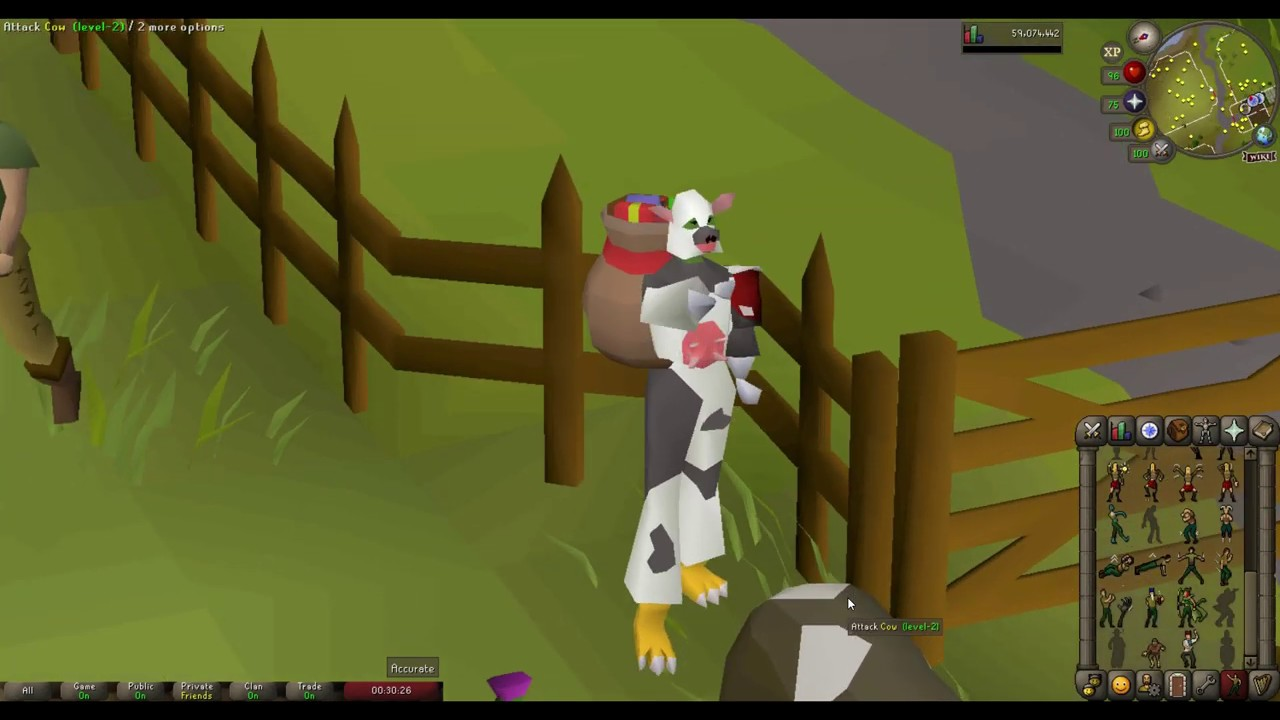rs_cow: (720, 576, 968, 720)
rs_player: (582, 173, 752, 666)
